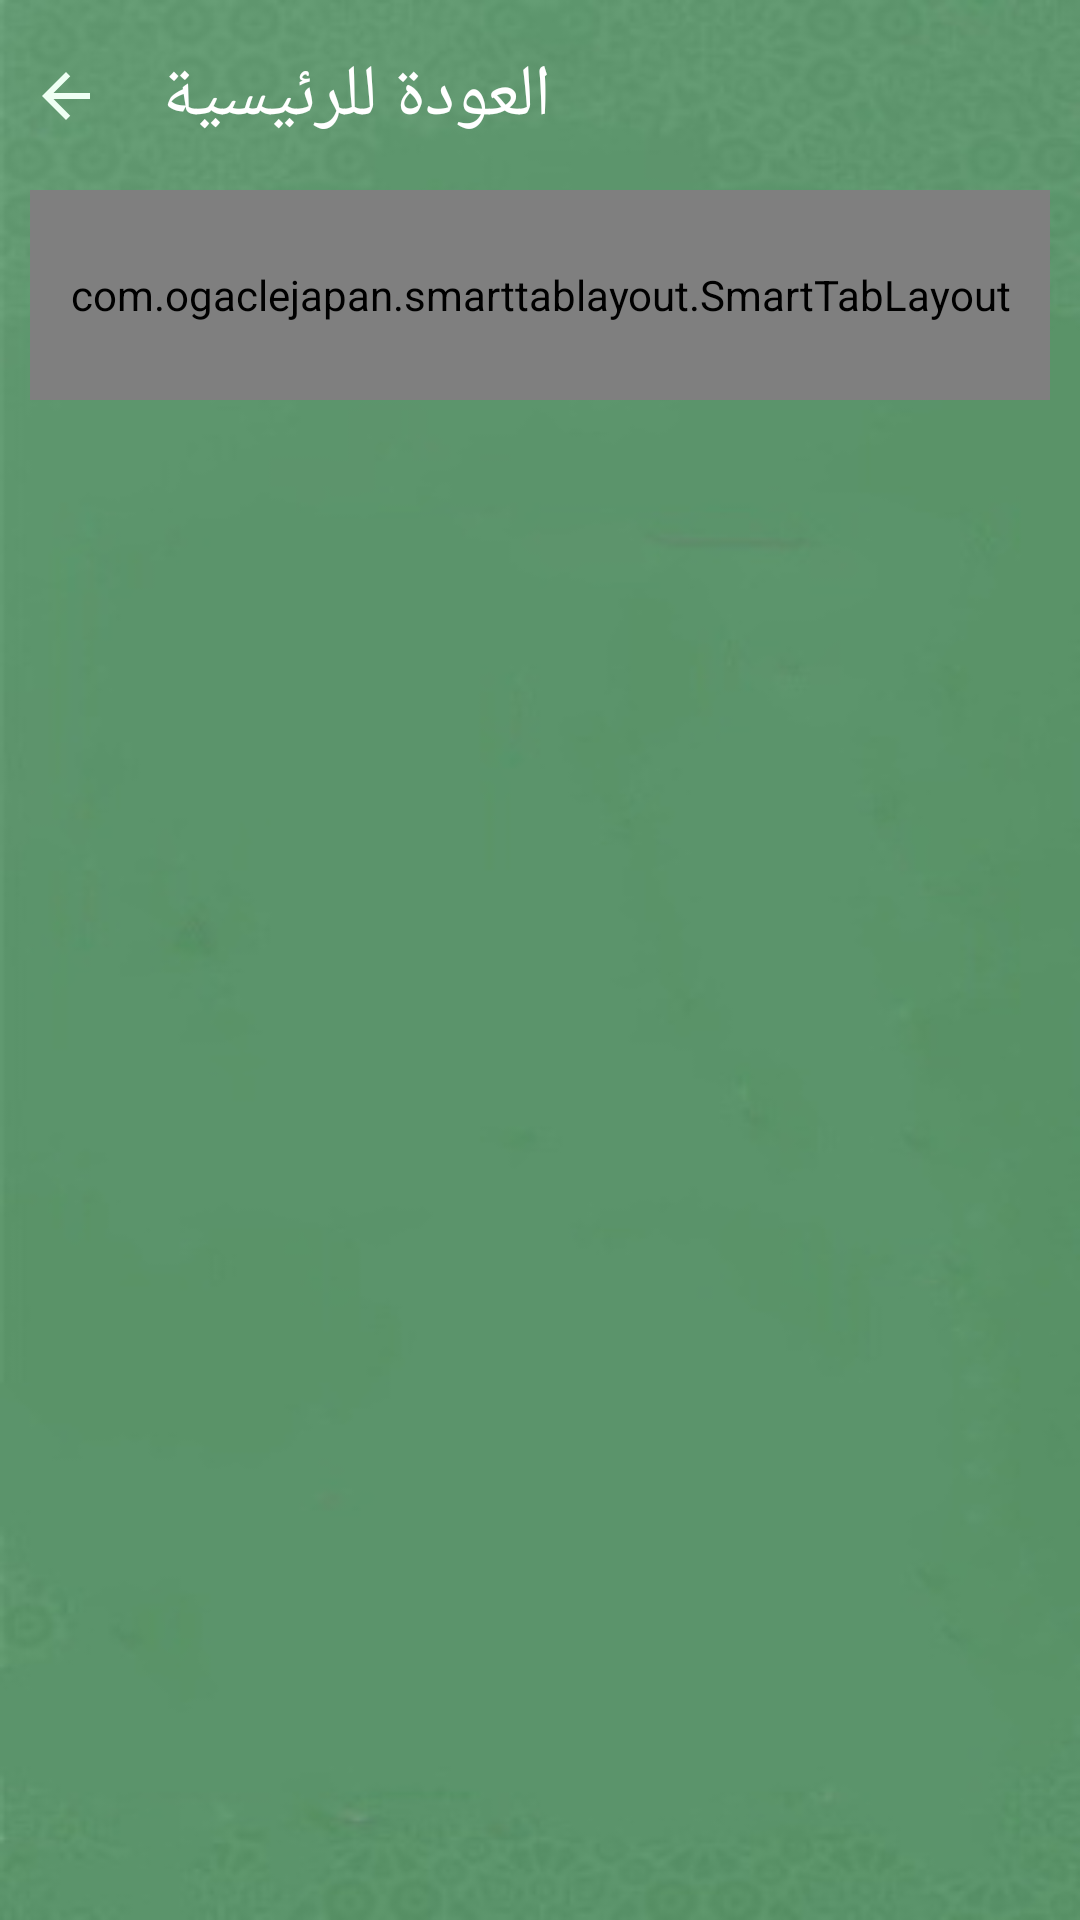

Screen size 1080 × 1920. Icon name, then its box in pixels as (x1, y1, x2, y2):
arrow back: (42, 72, 90, 120)
